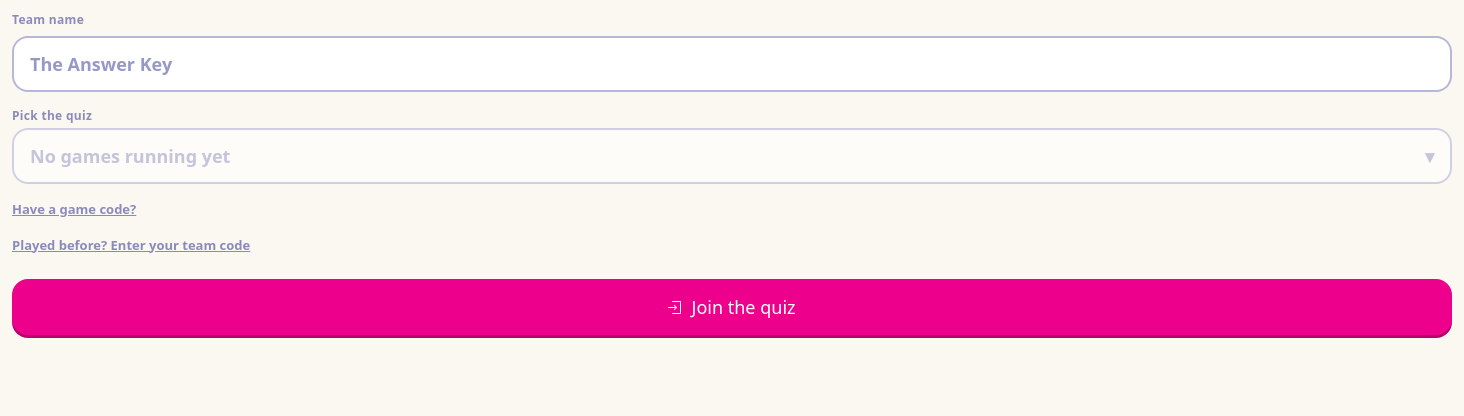
Test: JoinForm › hides the team code field until "Played before?" is clicked
What coordinates should you click on to do the following:
click the button "Played before? Enter your team code"
I would click on:
 (131, 245)
Its box is [12, 236, 250, 255].
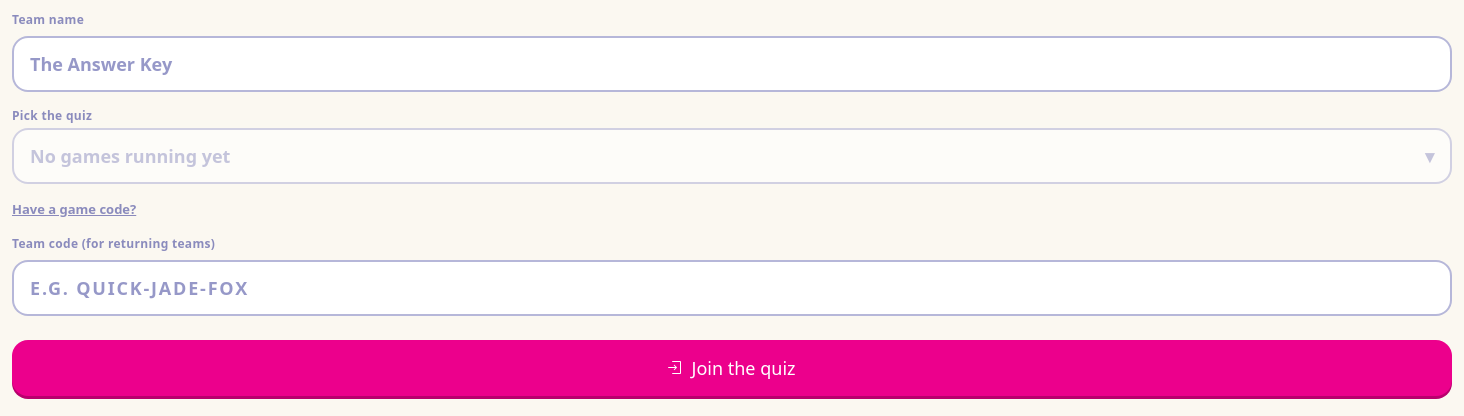
Expected: the field labelled "Team code (for returning teams)" is shown, [12, 260, 1452, 316]
